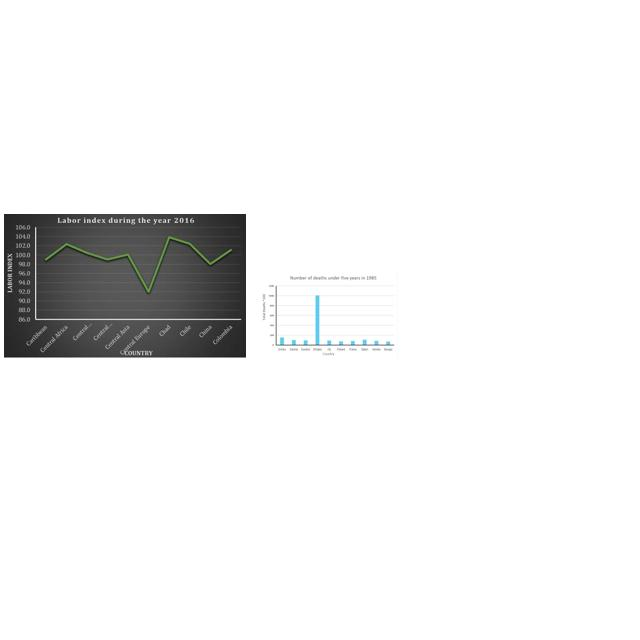Graph: (4, 214, 246, 358), (259, 273, 398, 359)
